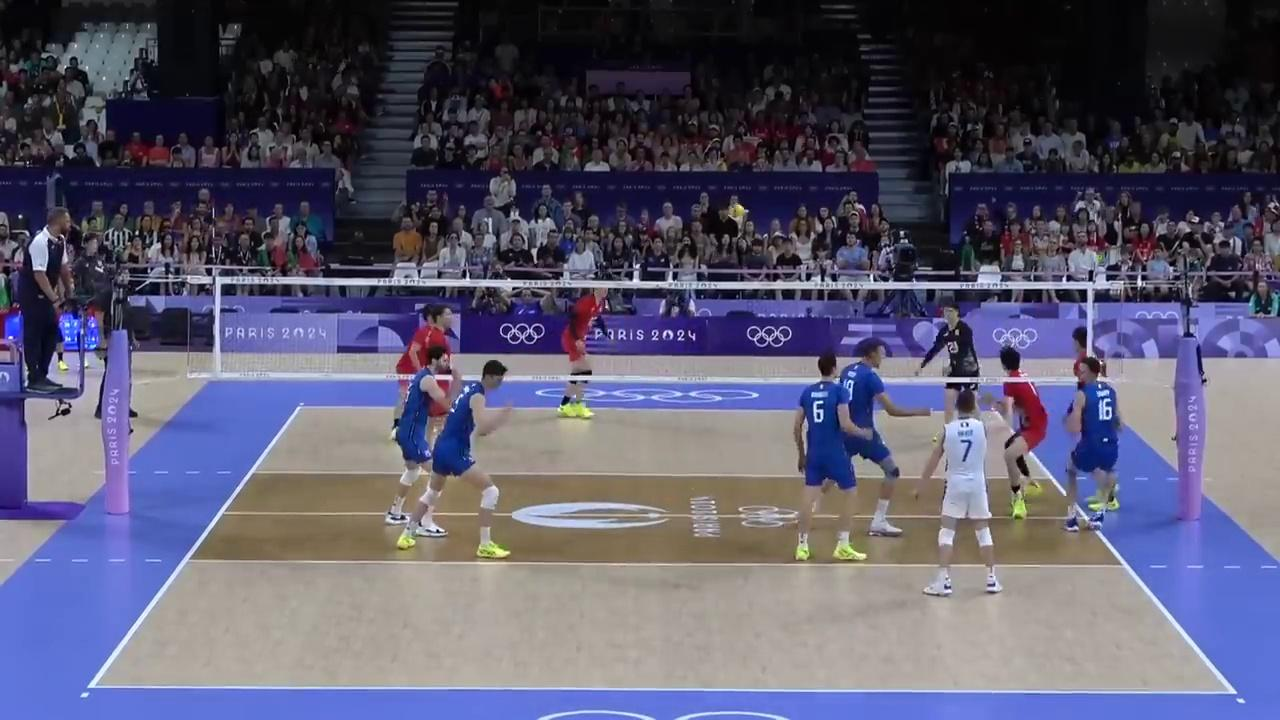ball: (728, 203, 743, 217)
